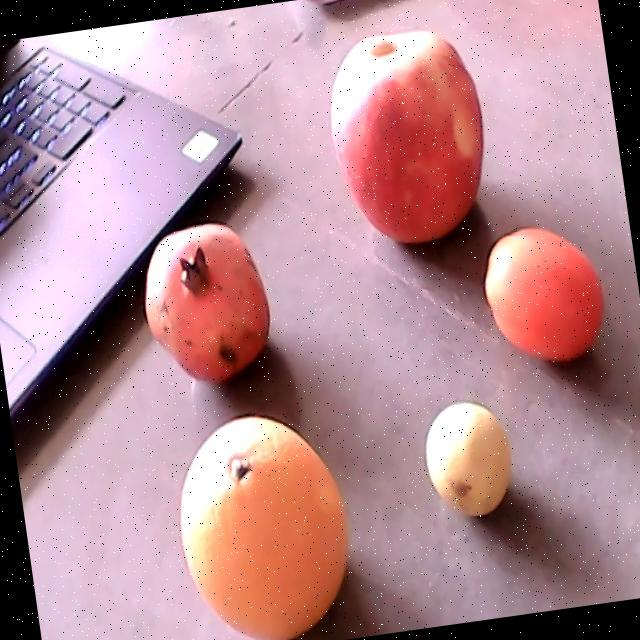apple: (330, 31, 483, 244)
lemon: (419, 394, 518, 517)
orange: (179, 415, 347, 639)
pomegranate: (144, 226, 271, 384)
tomato: (484, 227, 607, 361)
